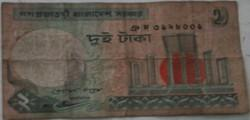2 taka: (1, 4, 250, 112)
